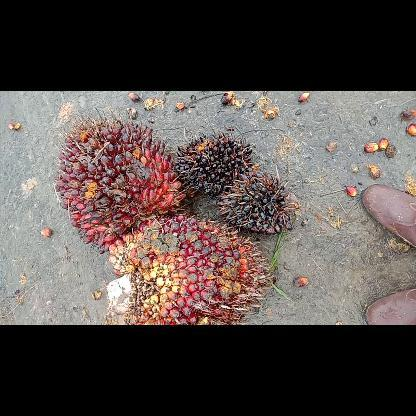TBS abnormal: (170, 126, 258, 198), (214, 168, 304, 238)
TBS masak: (51, 106, 189, 254), (103, 212, 278, 324)
